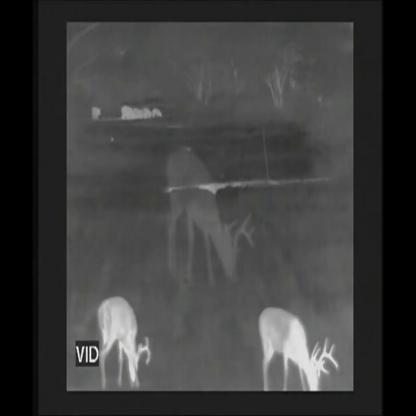rehkitze: (95, 296, 154, 391), (121, 104, 163, 124)
